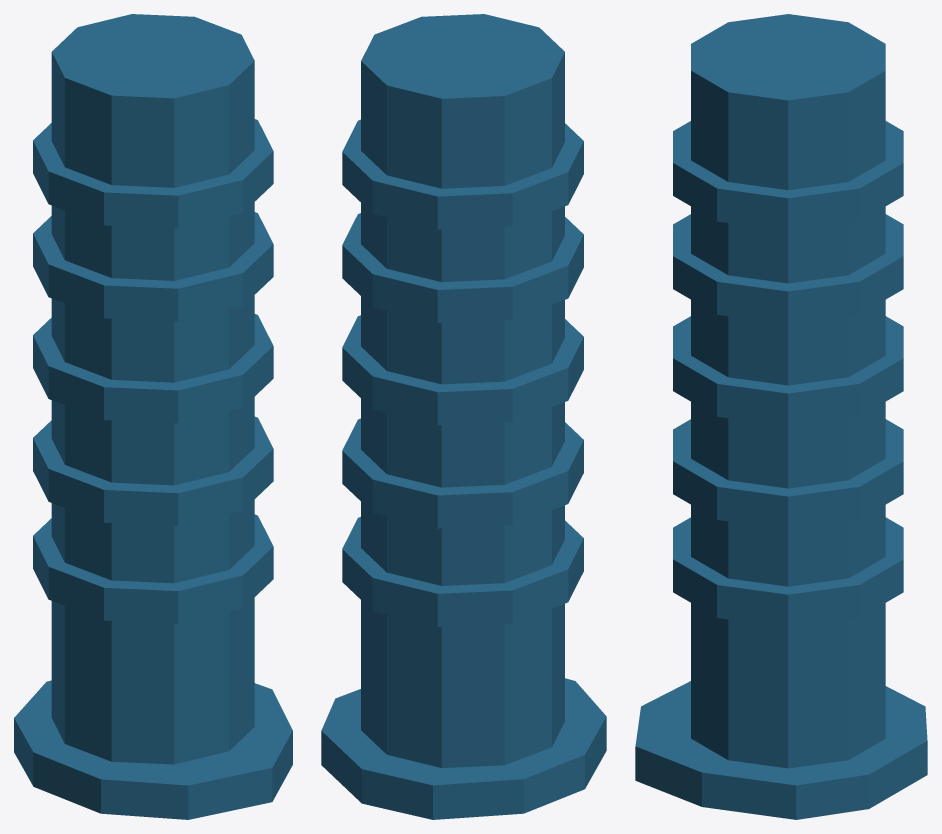
File: SM_Bld_Background_06_Collision.fbx
The picture shows the model from 3 angles, left to right: view 1: azimuth 30°, elevation 25°; view 2: azimuth 150°, elevation 25°; view 3: azimuth 270°, elevation 25°; orthographic projection.
Parts seen in each view (by area): view 1: SM_Bld_Background_06_Collision; view 2: SM_Bld_Background_06_Collision; view 3: SM_Bld_Background_06_Collision.
Part boxes in pixels (x1,y1,x2,y2): SM_Bld_Background_06_Collision: [14, 14, 292, 819]; SM_Bld_Background_06_Collision: [321, 14, 606, 819]; SM_Bld_Background_06_Collision: [635, 14, 927, 819].
Bounding box in the file's own units: 1977 × 5431 × 2046.
